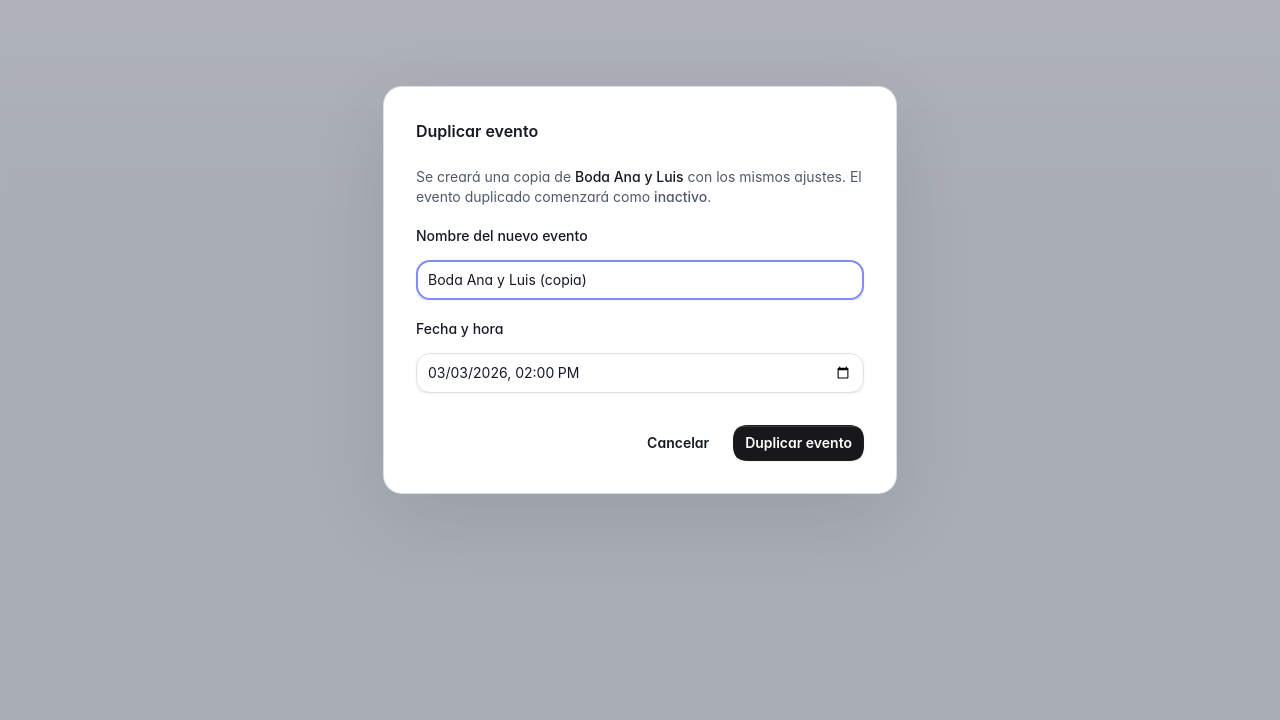
Scenario: EventDuplicateModal › shows a taken name inline and keeps the modal open
Click the button "Duplicar evento" at (799, 442), box [733, 424, 864, 460]
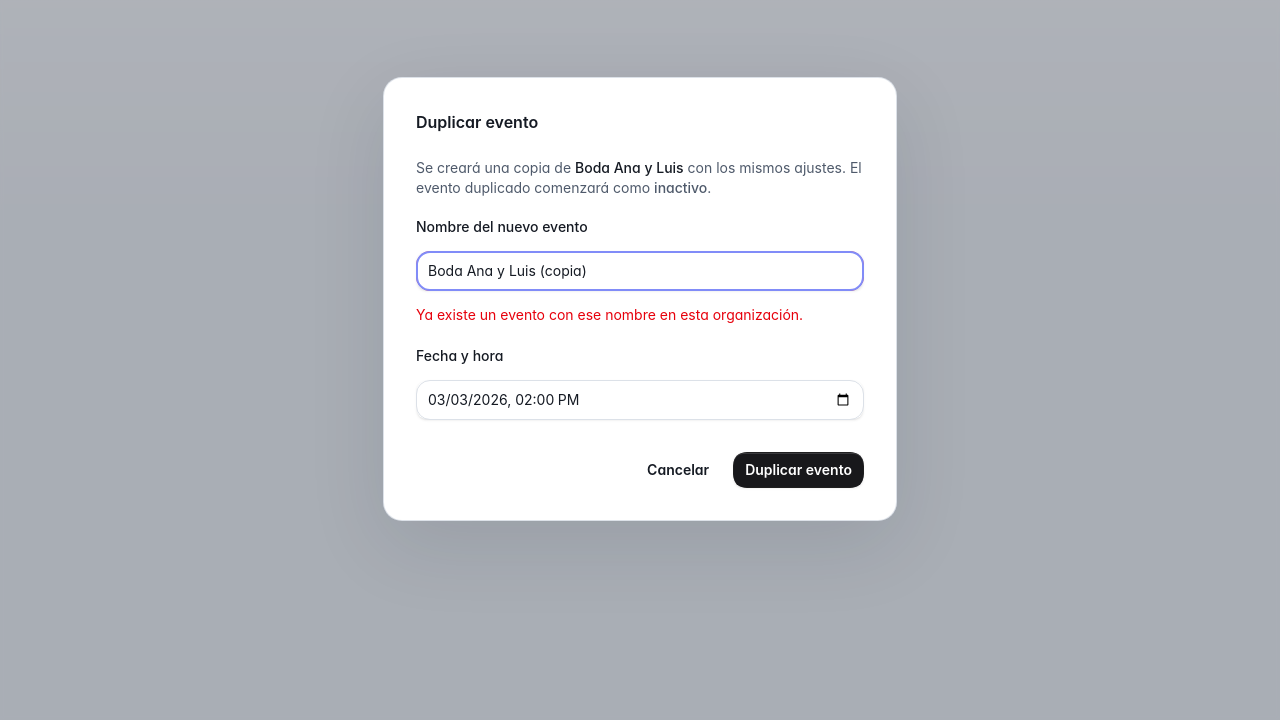
Check: the text "Ya existe un evento con ese nombre en esta organización." is shown, box [416, 302, 864, 326]
